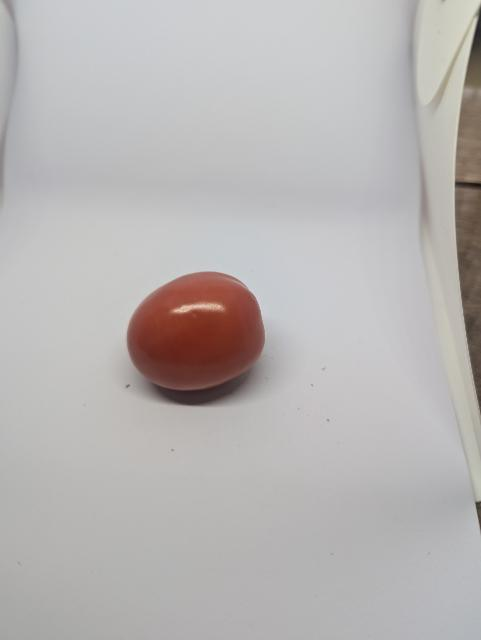red: (115, 262, 280, 405)
